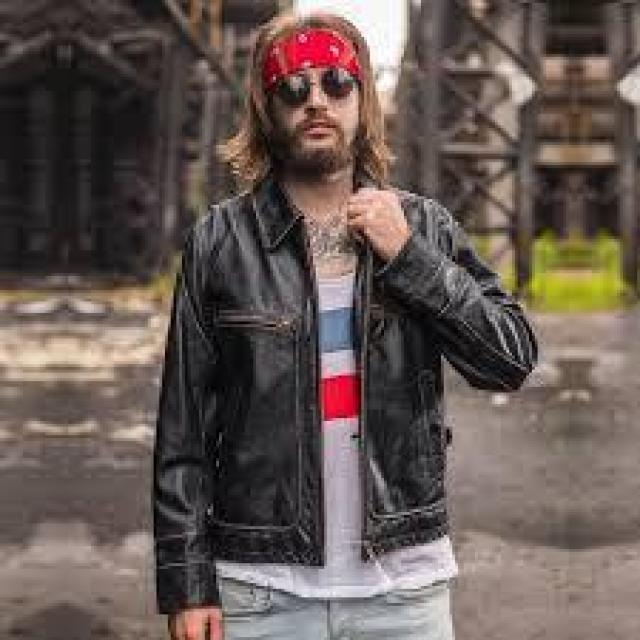jacket: (148, 183, 532, 616)
